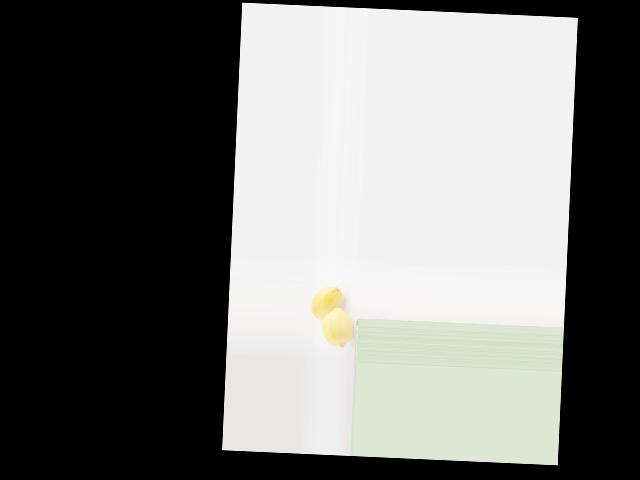lemon: (309, 284, 341, 319)
